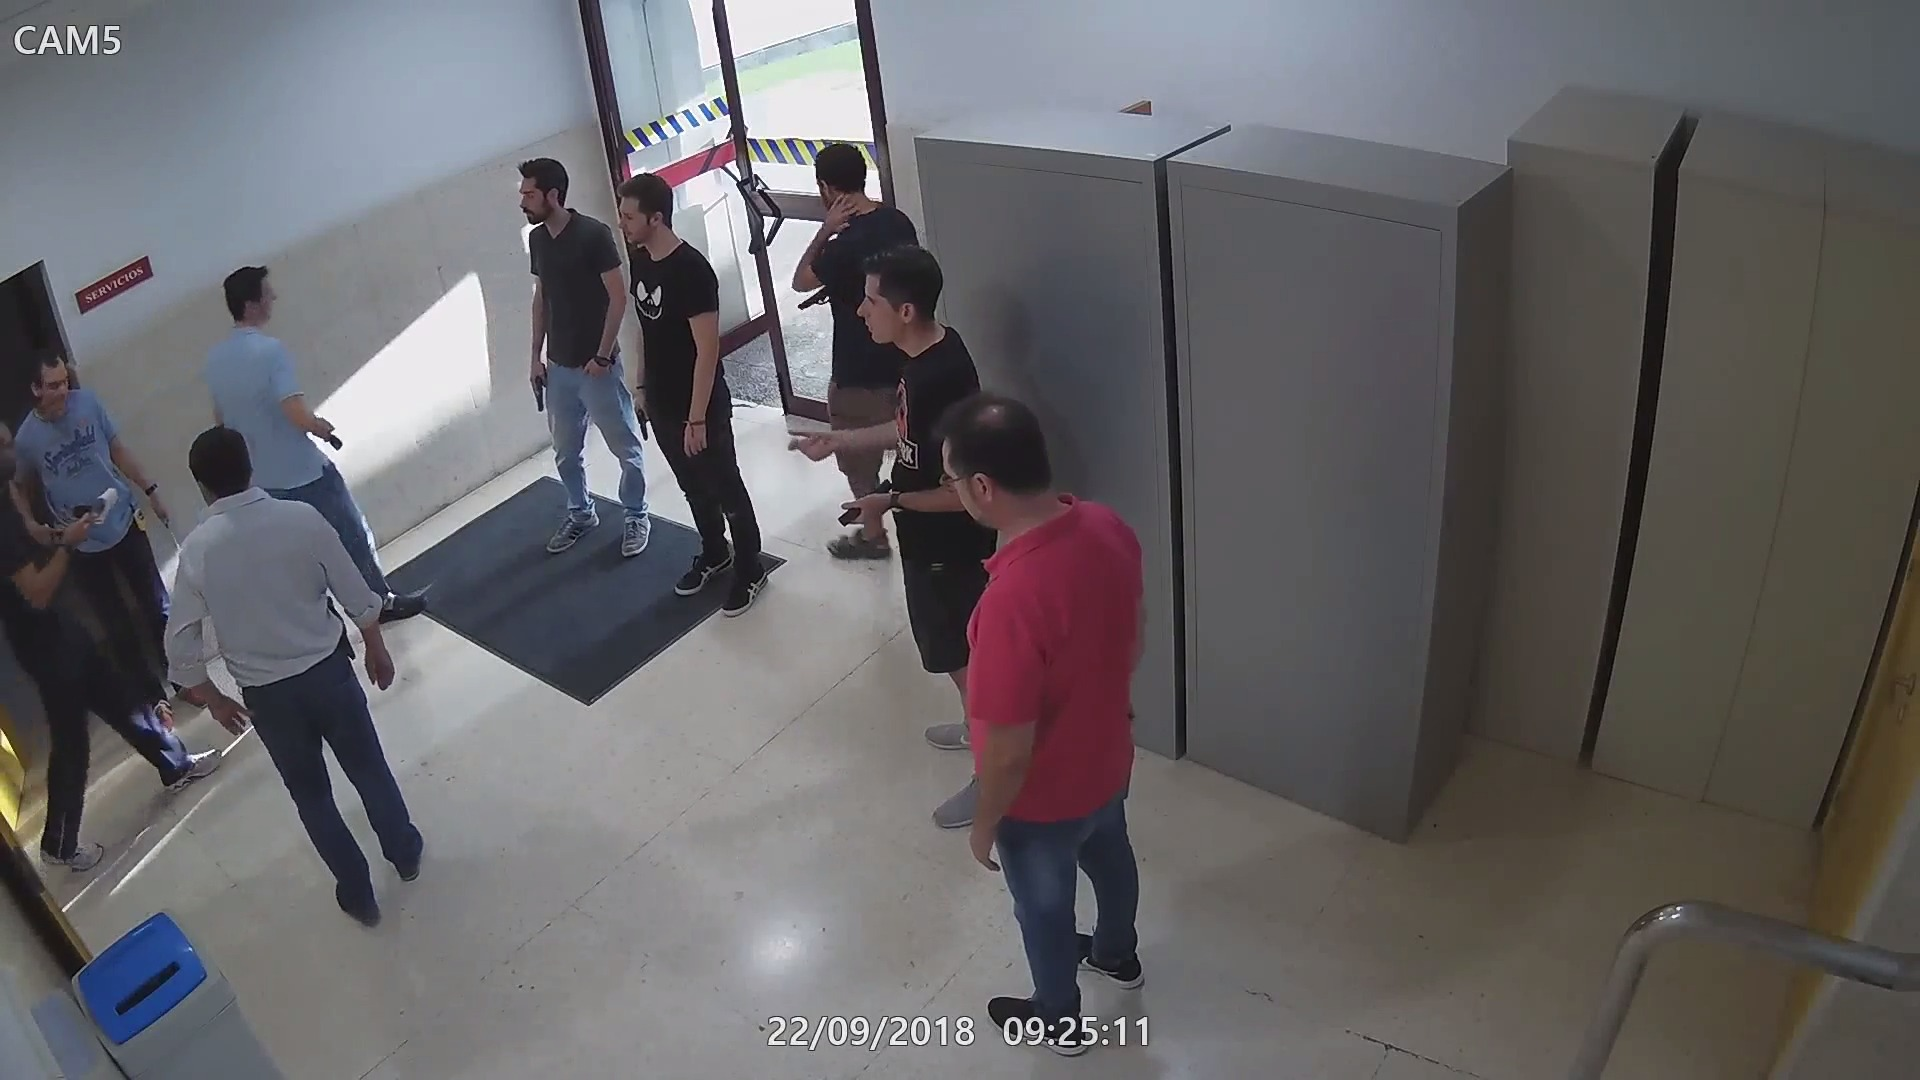Handgun: (837, 479, 899, 526), (323, 593, 360, 662), (520, 359, 549, 425), (793, 281, 833, 320), (628, 392, 654, 438)
Knife: (145, 487, 183, 564)
